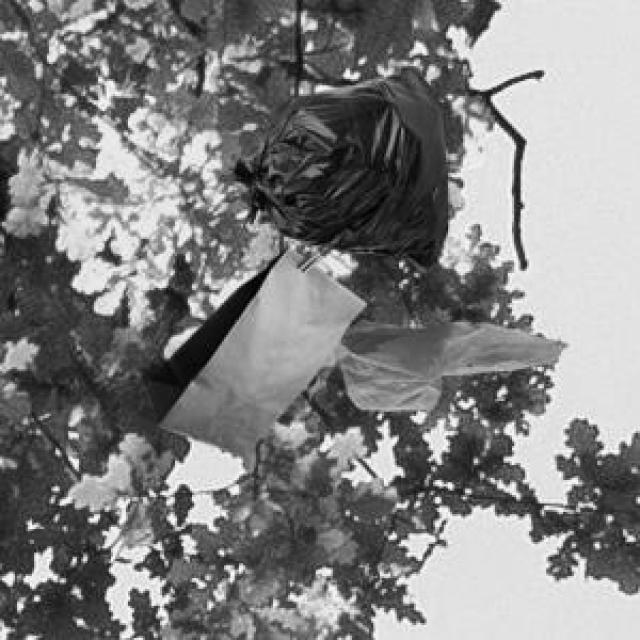miscellaneous trash: (226, 62, 444, 262)
paper: (143, 243, 363, 454)
